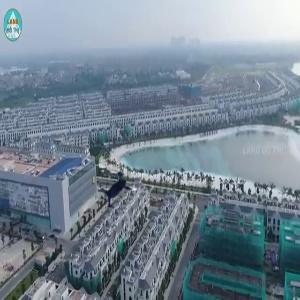drone: (91, 163, 148, 220)
